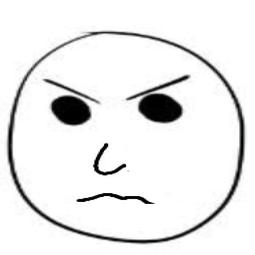eye: (138, 92, 187, 126), (46, 92, 91, 127)
frowning_eyebrow: (124, 73, 191, 103), (42, 78, 103, 107)
line_unsmiling_mouth: (71, 189, 166, 216)
nose: (88, 139, 129, 178)
